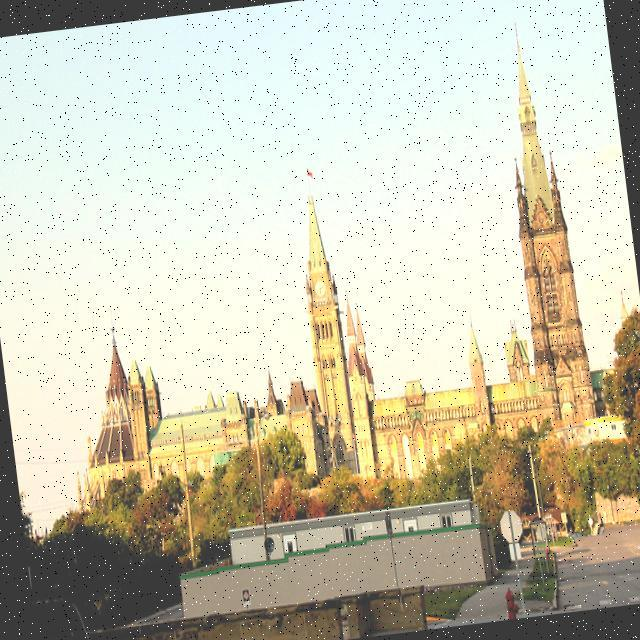fire_hydrant: (503, 585, 521, 619), (544, 546, 552, 565)
